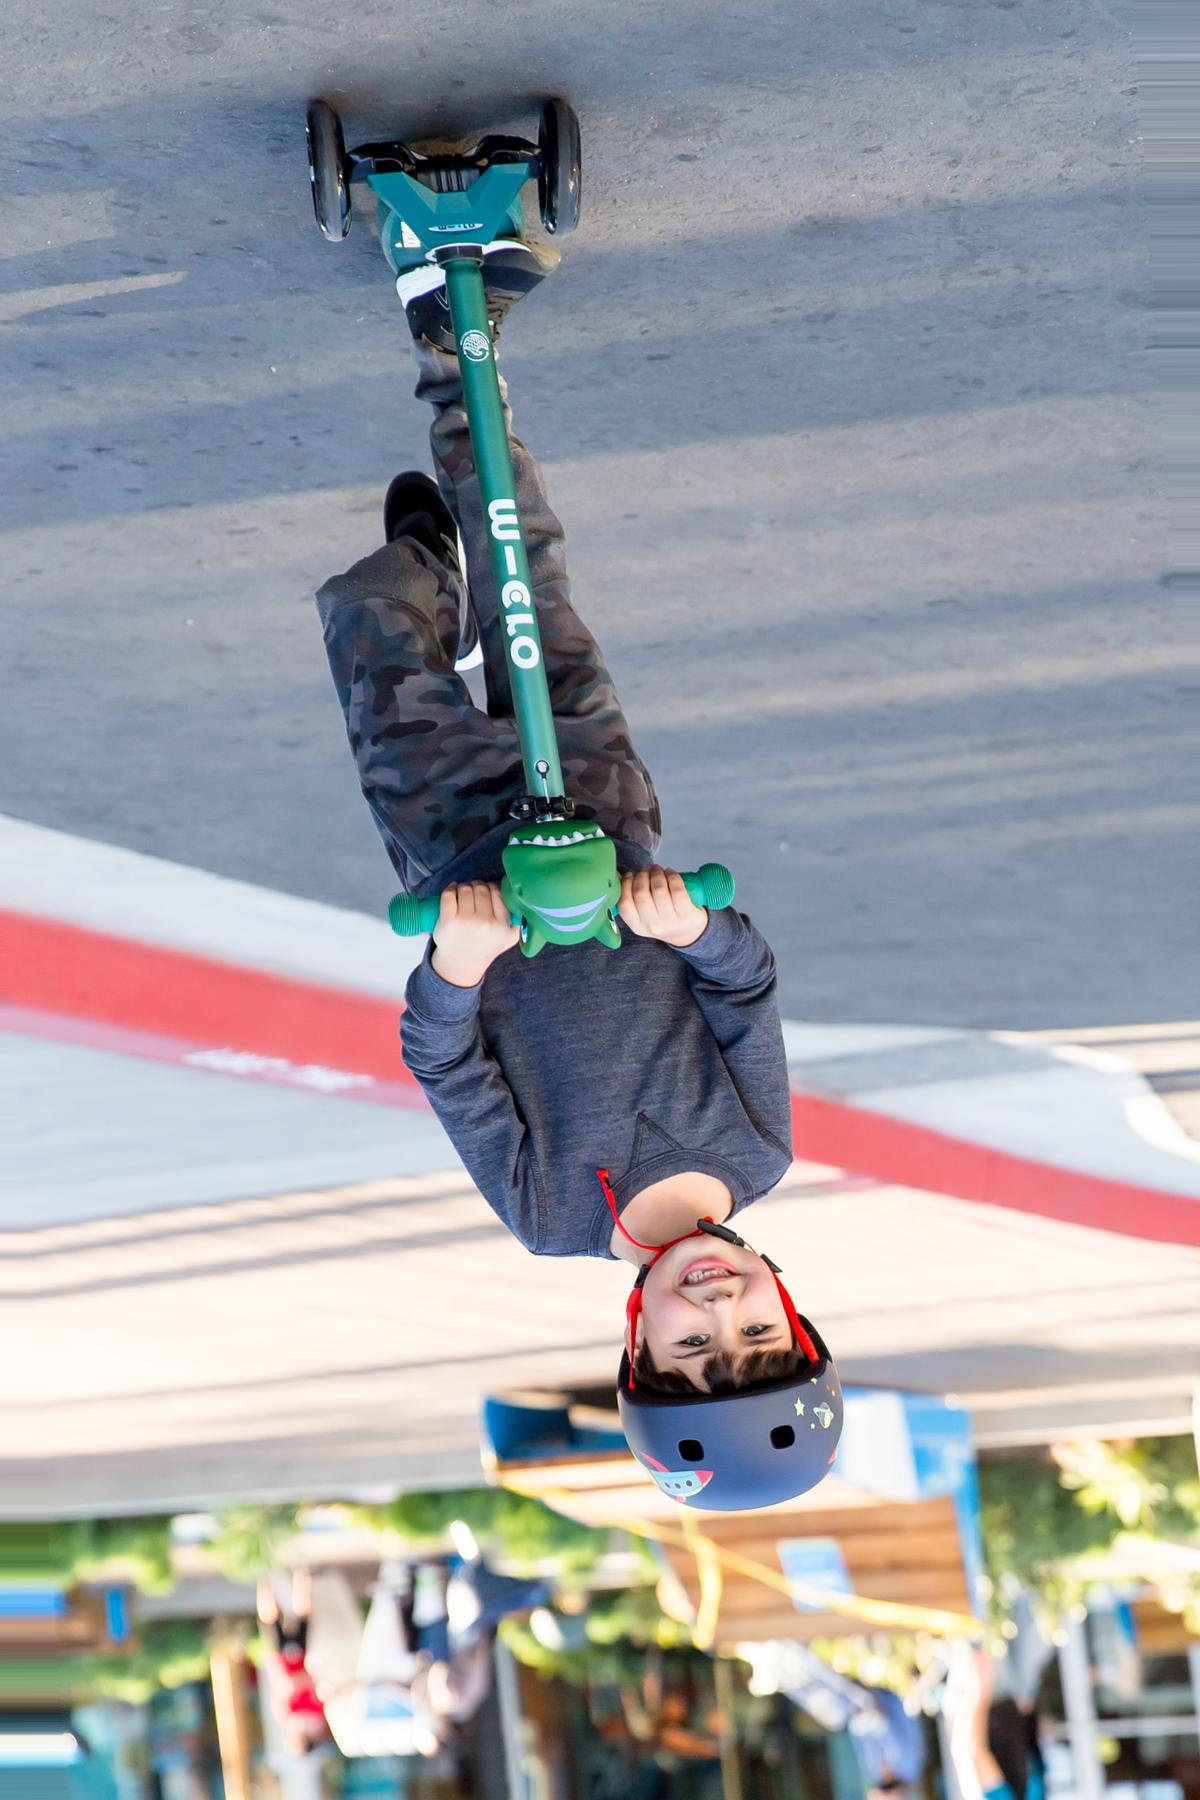scooter: (295, 80, 737, 955)
with helmet: (611, 1233, 845, 1523)
